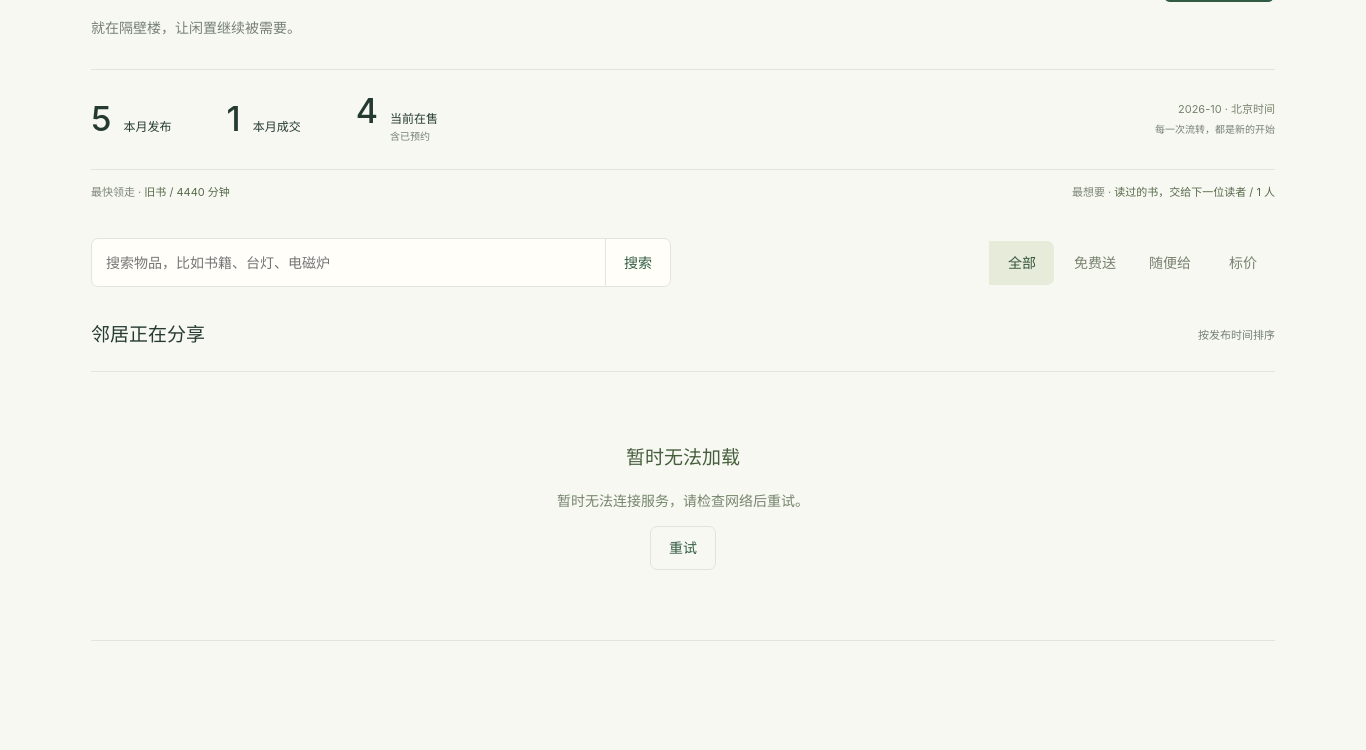
Test: retries a failed read without substituting mock success
(page scrolled)
Expected: the heading "暂时无法加载" is shown, [626, 446, 740, 468]
Expected: the heading "闲置电磁炉" is not shown
Click the button "重试" at x=683, y=548, box [650, 526, 716, 570]
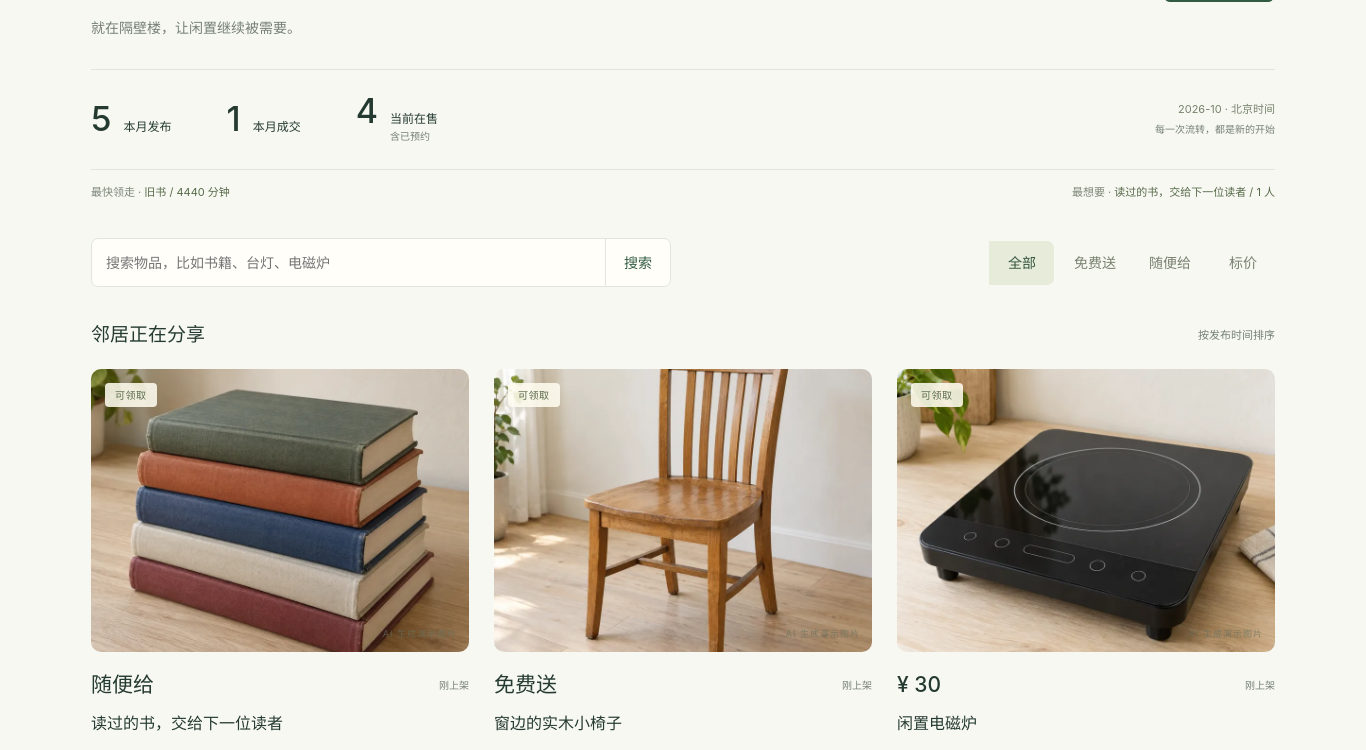
Now the heading "闲置电磁炉" is shown, box [897, 713, 977, 733]
